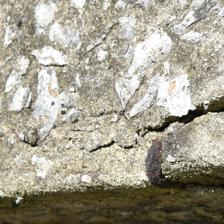Crack: (46, 48, 177, 109)
